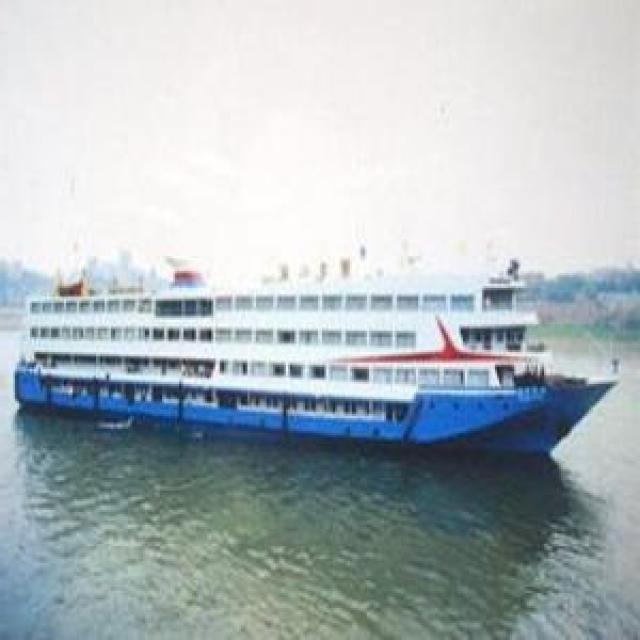passenger ship: (11, 247, 616, 446)
